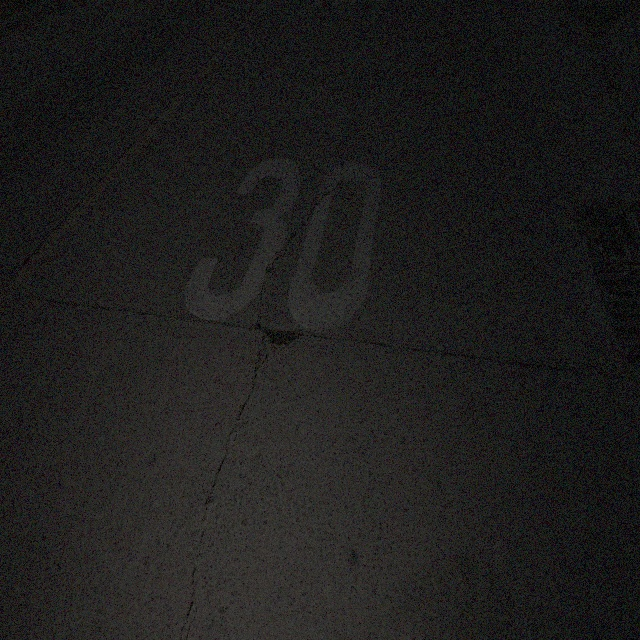pothole: (254, 320, 300, 380)
